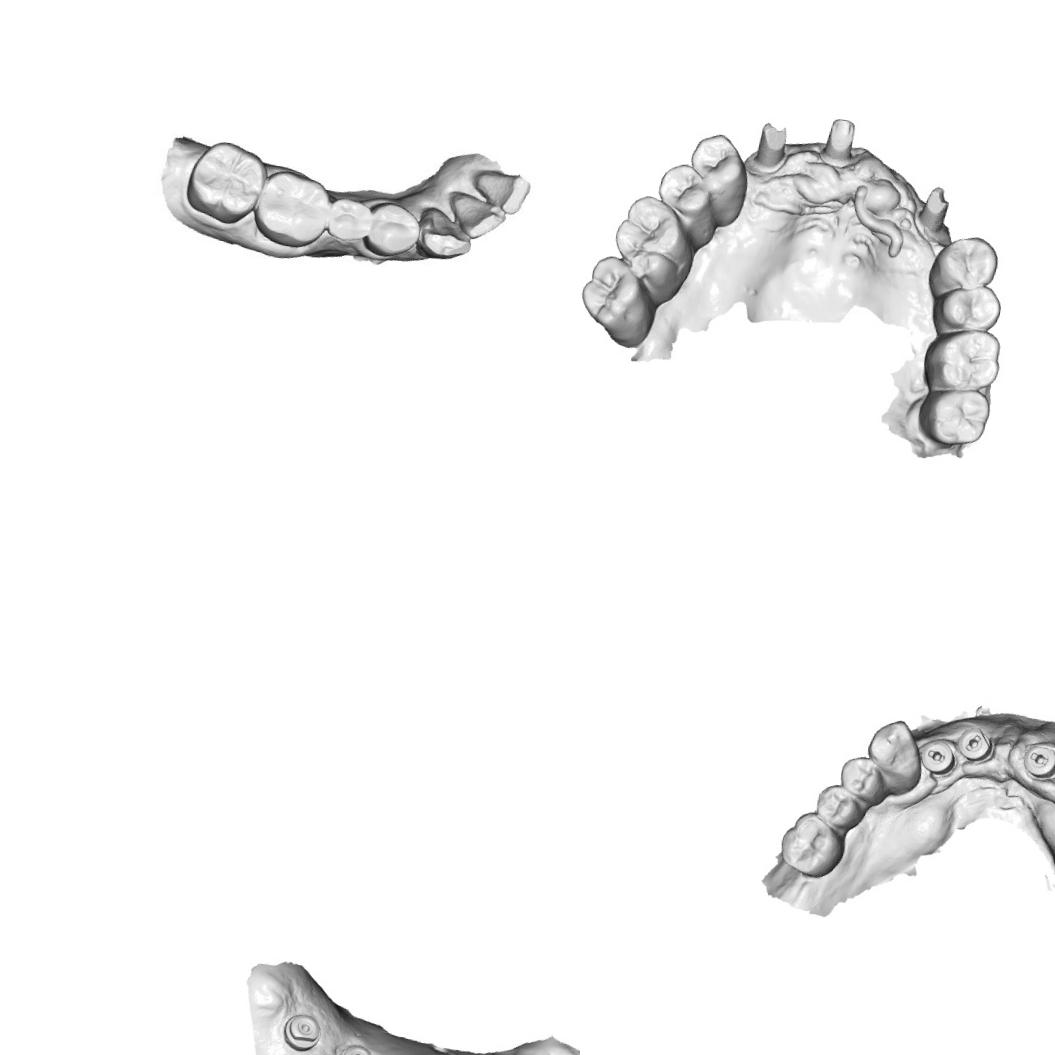abutment: (742, 117, 794, 180), (909, 182, 956, 247), (816, 115, 862, 171)
canine: (861, 712, 927, 790), (411, 202, 472, 264)
implant: (280, 1009, 324, 1054), (332, 1041, 377, 1055)
implant_minus: (918, 733, 959, 777), (1017, 737, 1055, 780), (956, 725, 996, 762)
incisor: (452, 190, 506, 242), (475, 166, 530, 213)
molar: (606, 192, 702, 300), (182, 134, 268, 234), (580, 252, 662, 351), (248, 165, 335, 251), (919, 322, 1004, 399), (775, 808, 849, 882), (914, 382, 992, 450)
premolar: (682, 129, 754, 216), (924, 230, 1003, 305), (650, 160, 722, 242), (928, 278, 1004, 344), (363, 200, 424, 262), (836, 753, 890, 804), (810, 780, 864, 830), (324, 195, 373, 250)
